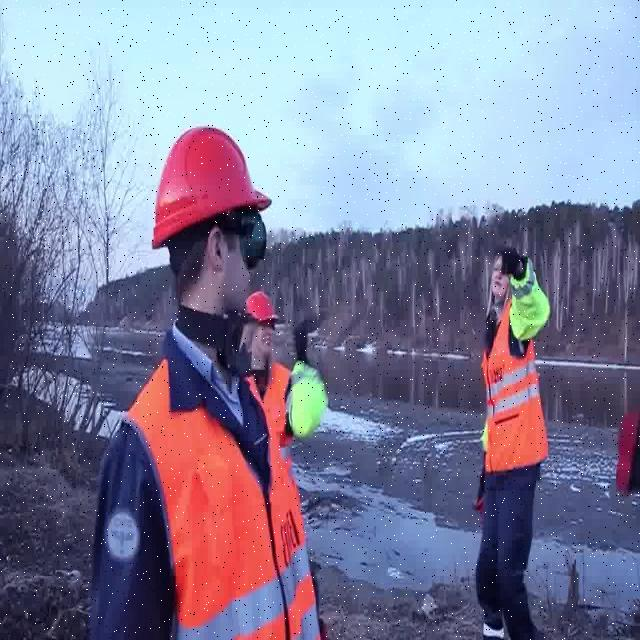Hard_hat: (141, 121, 278, 246), (241, 289, 280, 328)
Person: (101, 122, 325, 640), (461, 244, 555, 640)
Vest: (131, 348, 303, 639), (484, 310, 547, 479)
